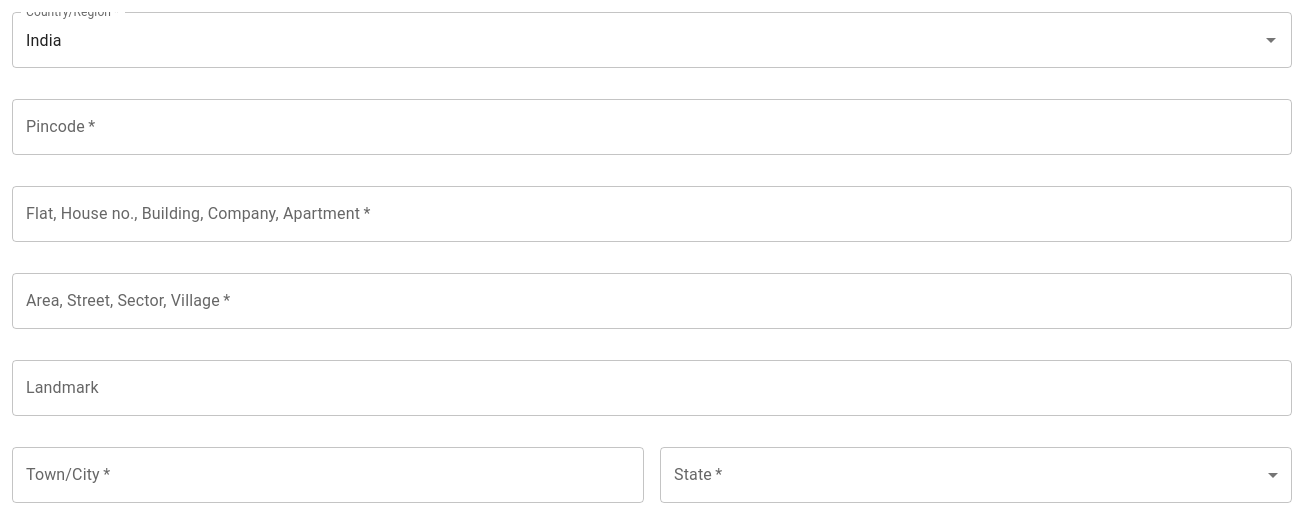
Scenario: AddressFields - PIN code lookup › fills in the town and state once six digits are typed
Type "53108" into the field labelled "Pincode *". click: (652, 127)
box: 12,99 -> 1292,155
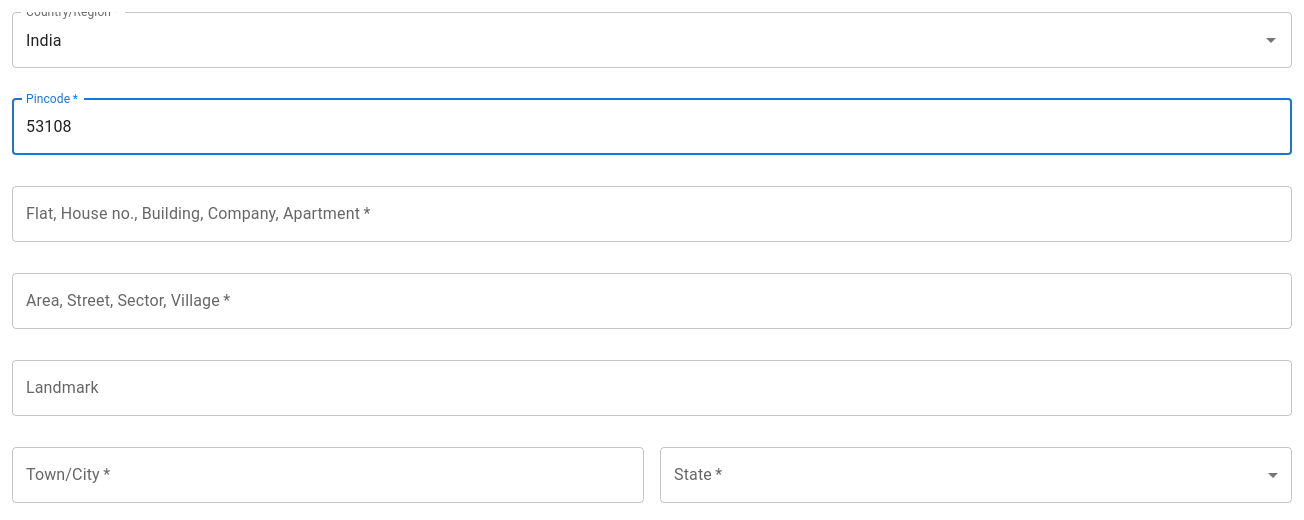
Type "1" into the field labelled "Pincode *". click: (652, 127)
box: 12,99 -> 1292,155
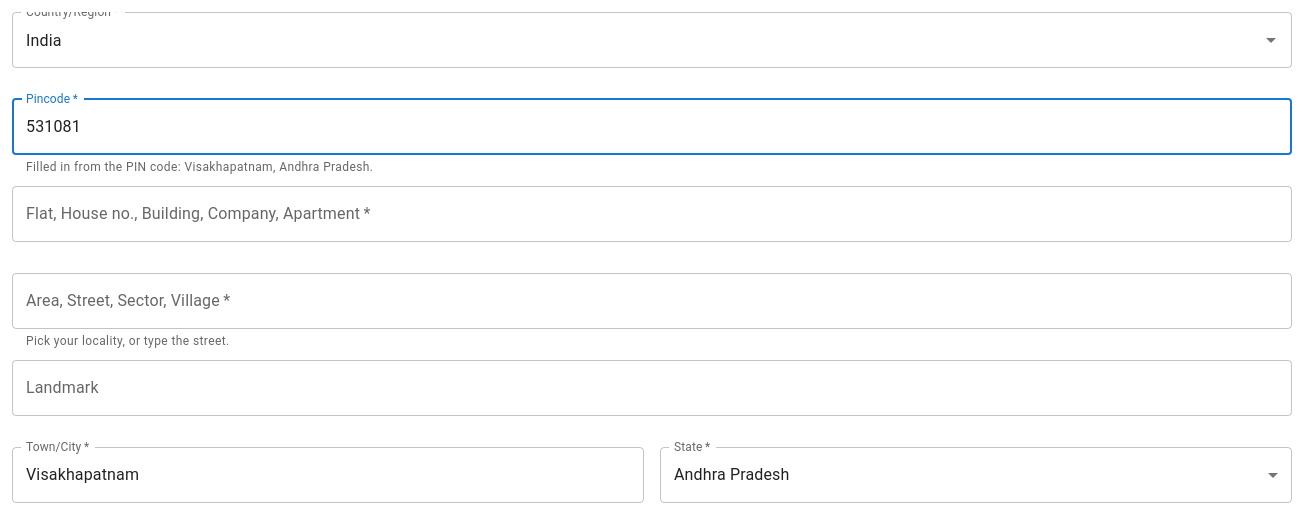
Expected: the dropdown labelled "Andhra Pradesh" is shown, 674,465 -> 790,484
Expected: the text "Filled in from the PIN code: Visakhapatnam, Andhra Pradesh." is shown, 26,160 -> 373,174
